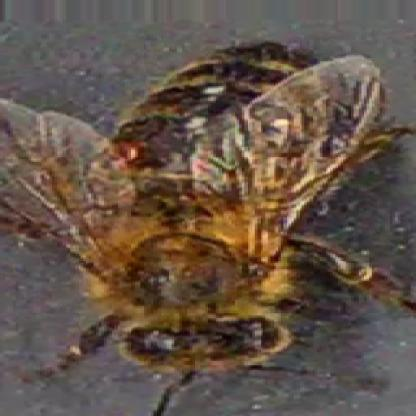bee: (87, 43, 332, 371), (109, 137, 149, 165)
